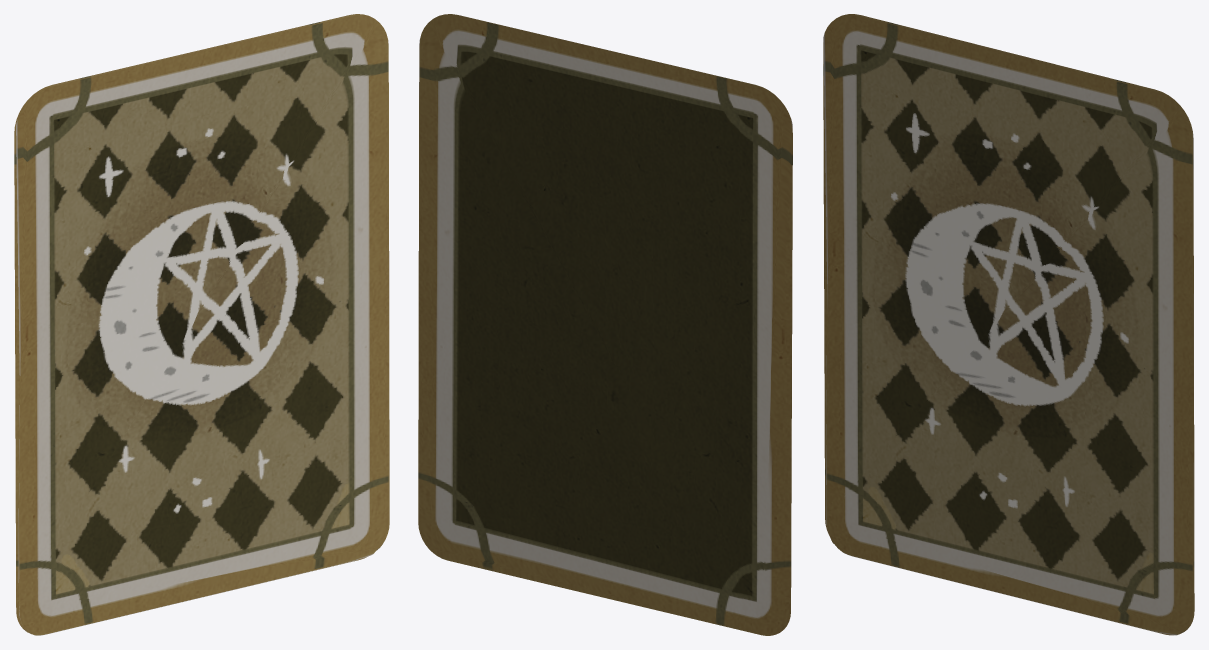
The model's file is GoldCard.fbx.
3 renders of one model, left to right at view 1: azimuth 30°, elevation 25°; view 2: azimuth 150°, elevation 25°; view 3: azimuth 330°, elevation 25°, orthographic.
Visible parts, largest first — view 1: Plane; view 2: Plane; view 3: Plane.
Boxes of the visible parts, x1,y1,x2,y2 form: Plane: (14,14,389,635); Plane: (418,14,792,635); Plane: (823,14,1194,635).
Bounding box in the file's own units: 321 × 451 × 1.11.
